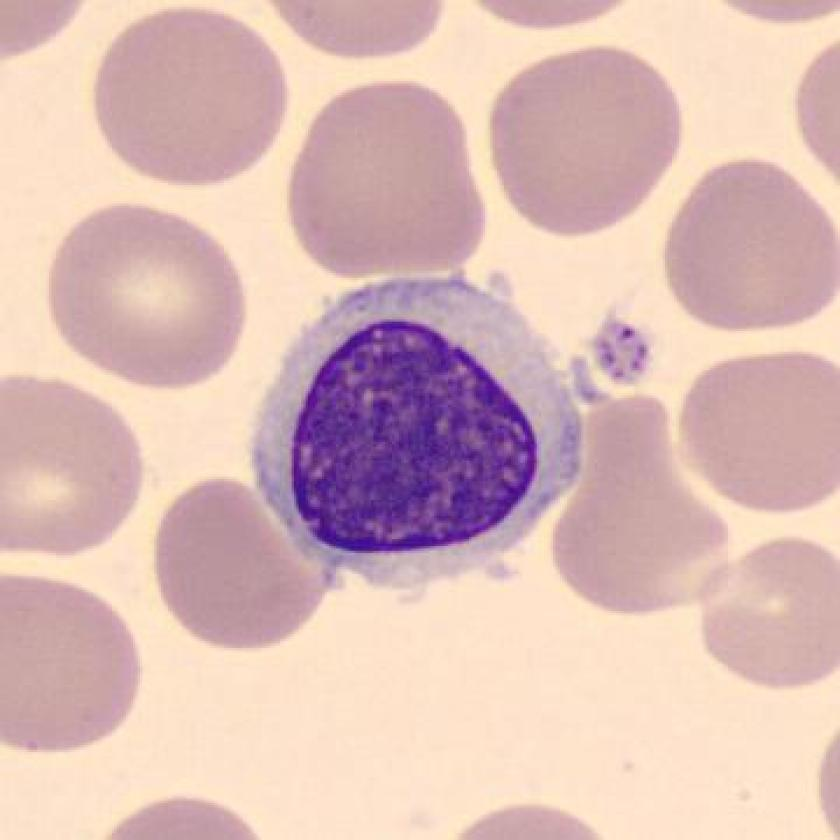lymphocyte: (239, 260, 596, 603)
